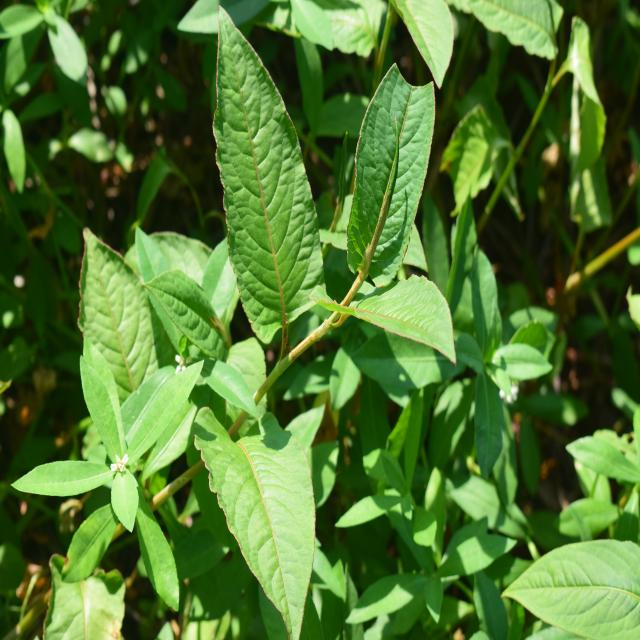Chinese_knotweed: (213, 31, 459, 371), (196, 419, 327, 611)
